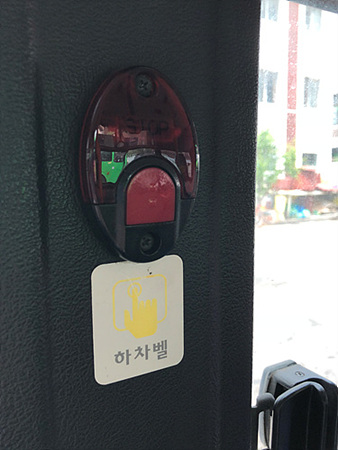bell: (77, 63, 203, 262)
